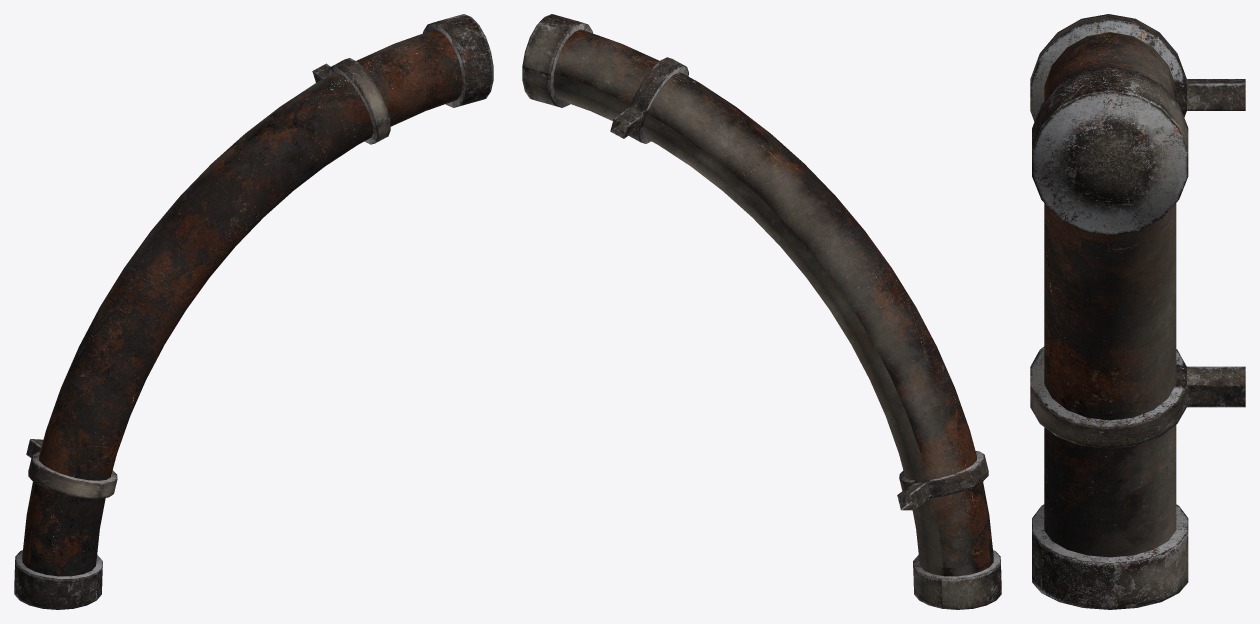
Rendered from SM_PipeBend90.FBX.
3 views of the same model, side by side, from view 1: azimuth 30°, elevation 25°; view 2: azimuth 150°, elevation 25°; view 3: azimuth 270°, elevation 25° (orthographic). The views are drawn at different scales.
Parts seen in each view (by area): view 1: SM_PipeBend90; view 2: SM_PipeBend90; view 3: SM_PipeBend90.
Part boxes in pixels (<box>): SM_PipeBend90: <box>14,14,493,609</box>; SM_PipeBend90: <box>522,14,1001,609</box>; SM_PipeBend90: <box>1030,14,1245,609</box>.
Bounding box in the file's own units: 139 × 32.13 × 139.
